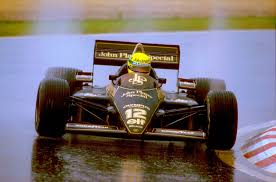FormulaOneCar: (29, 37, 245, 154)
